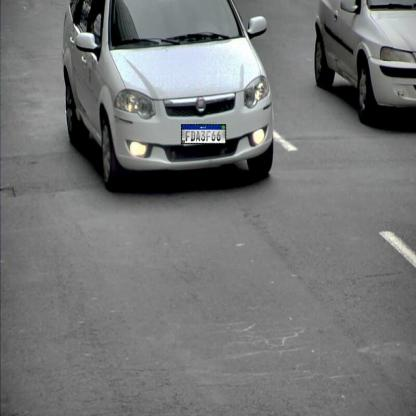PlacaM: (181, 124, 226, 144)
